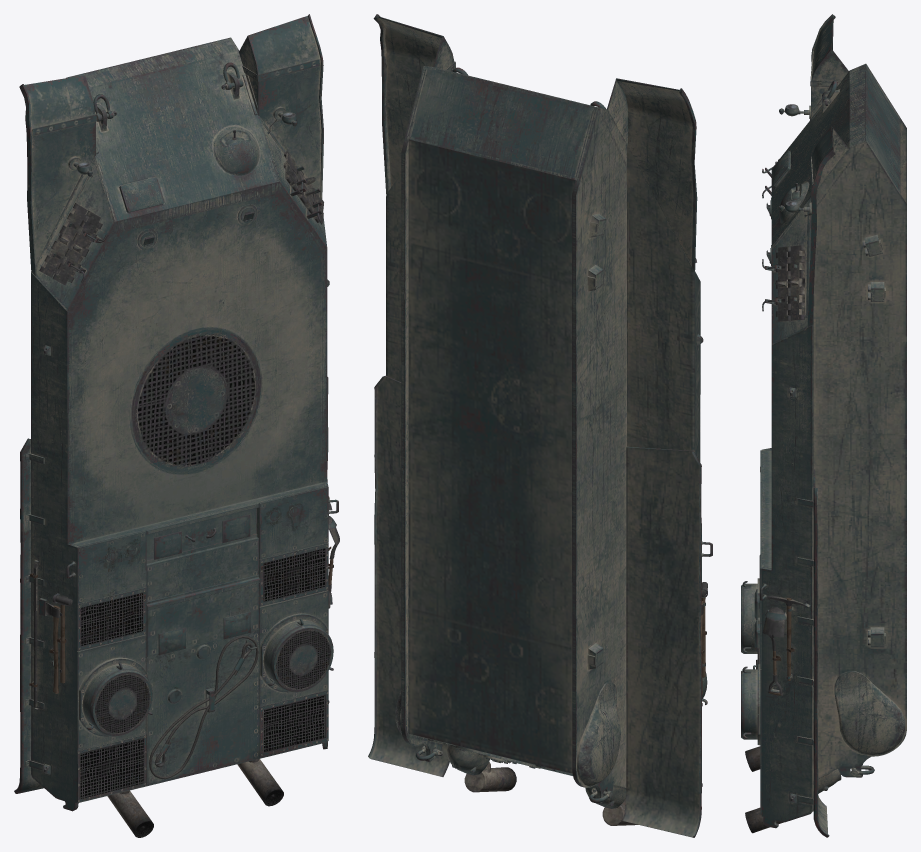
Rendered from Hull.glb.
The picture shows the model from 3 angles, left to right: view 1: azimuth 30°, elevation 25°; view 2: azimuth 150°, elevation 25°; view 3: azimuth 270°, elevation 25°; orthographic projection. The views are drawn at different scales.
Visible parts, largest first — view 1: set_0_group_0; view 2: set_0_group_0; view 3: set_0_group_0.
Boxes of the visible parts, <box> form: set_0_group_0: <box>14,14,339,837</box>; set_0_group_0: <box>368,14,712,837</box>; set_0_group_0: <box>741,14,906,837</box>.
Size of the model in its own units: 3.43 by 7.91 by 1.65.
1 material, 1 textured.
